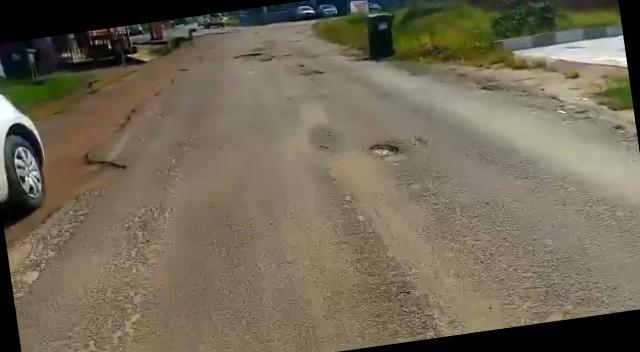pothole: (361, 137, 407, 160), (301, 66, 329, 76)
